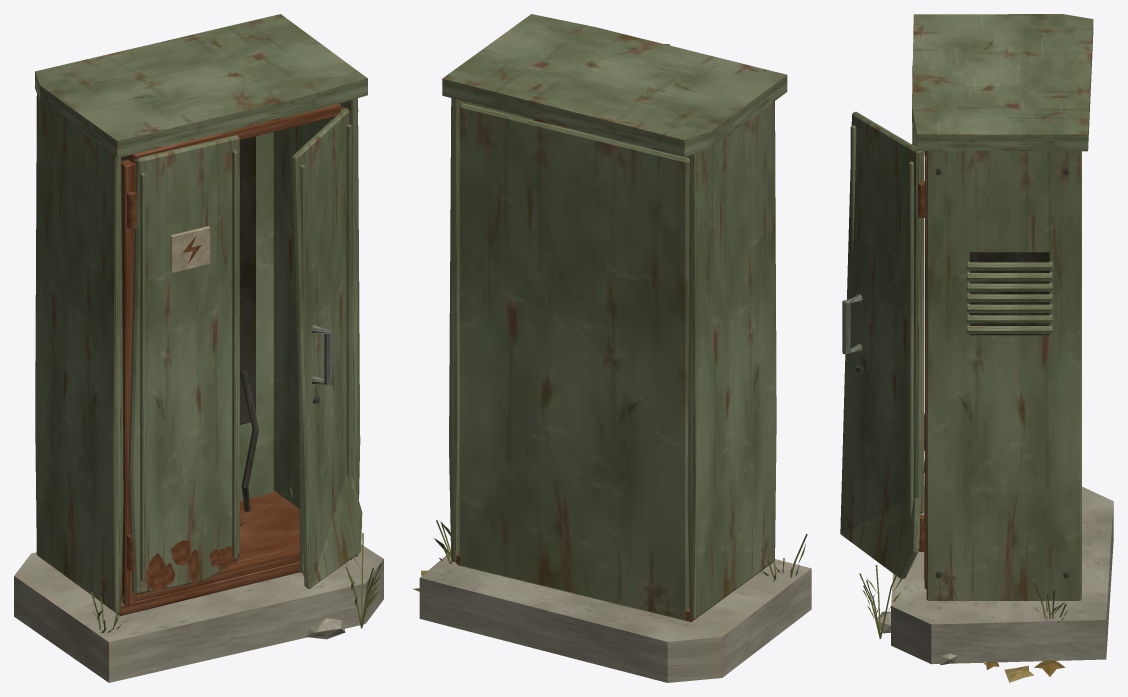
Rendered from nb_utility_cabinet.glb.
3 views of the same model, side by side, from view 1: azimuth 30°, elevation 25°; view 2: azimuth 150°, elevation 25°; view 3: azimuth 270°, elevation 25° (orthographic). The views are drawn at different scales.
Visible parts, largest first — view 1: Utility_Cabinet_Damaged_Body, Cabinet_Left_Damaged_Door, Cabinet_Right_Ajar_Door; view 2: Utility_Cabinet_Damaged_Body; view 3: Utility_Cabinet_Damaged_Body, Cabinet_Right_Ajar_Door, Cabinet_Left_Damaged_Door.
Part boxes in pixels (x1=…): Utility_Cabinet_Damaged_Body: x1=14, y1=14, x2=383, y2=682; Cabinet_Left_Damaged_Door: x1=127, y1=135, x2=240, y2=594; Cabinet_Right_Ajar_Door: x1=291, y1=108, x2=362, y2=588; Utility_Cabinet_Damaged_Body: x1=413, y1=14, x2=811, y2=682; Utility_Cabinet_Damaged_Body: x1=859, y1=14, x2=1113, y2=682; Cabinet_Right_Ajar_Door: x1=840, y1=111, x2=924, y2=579; Cabinet_Left_Damaged_Door: x1=912, y1=65, x2=924, y2=513.
Bounding box in the file's own units: 1.04 × 1.59 × 0.7492.
Materials: 1 (1 with a texture image).
